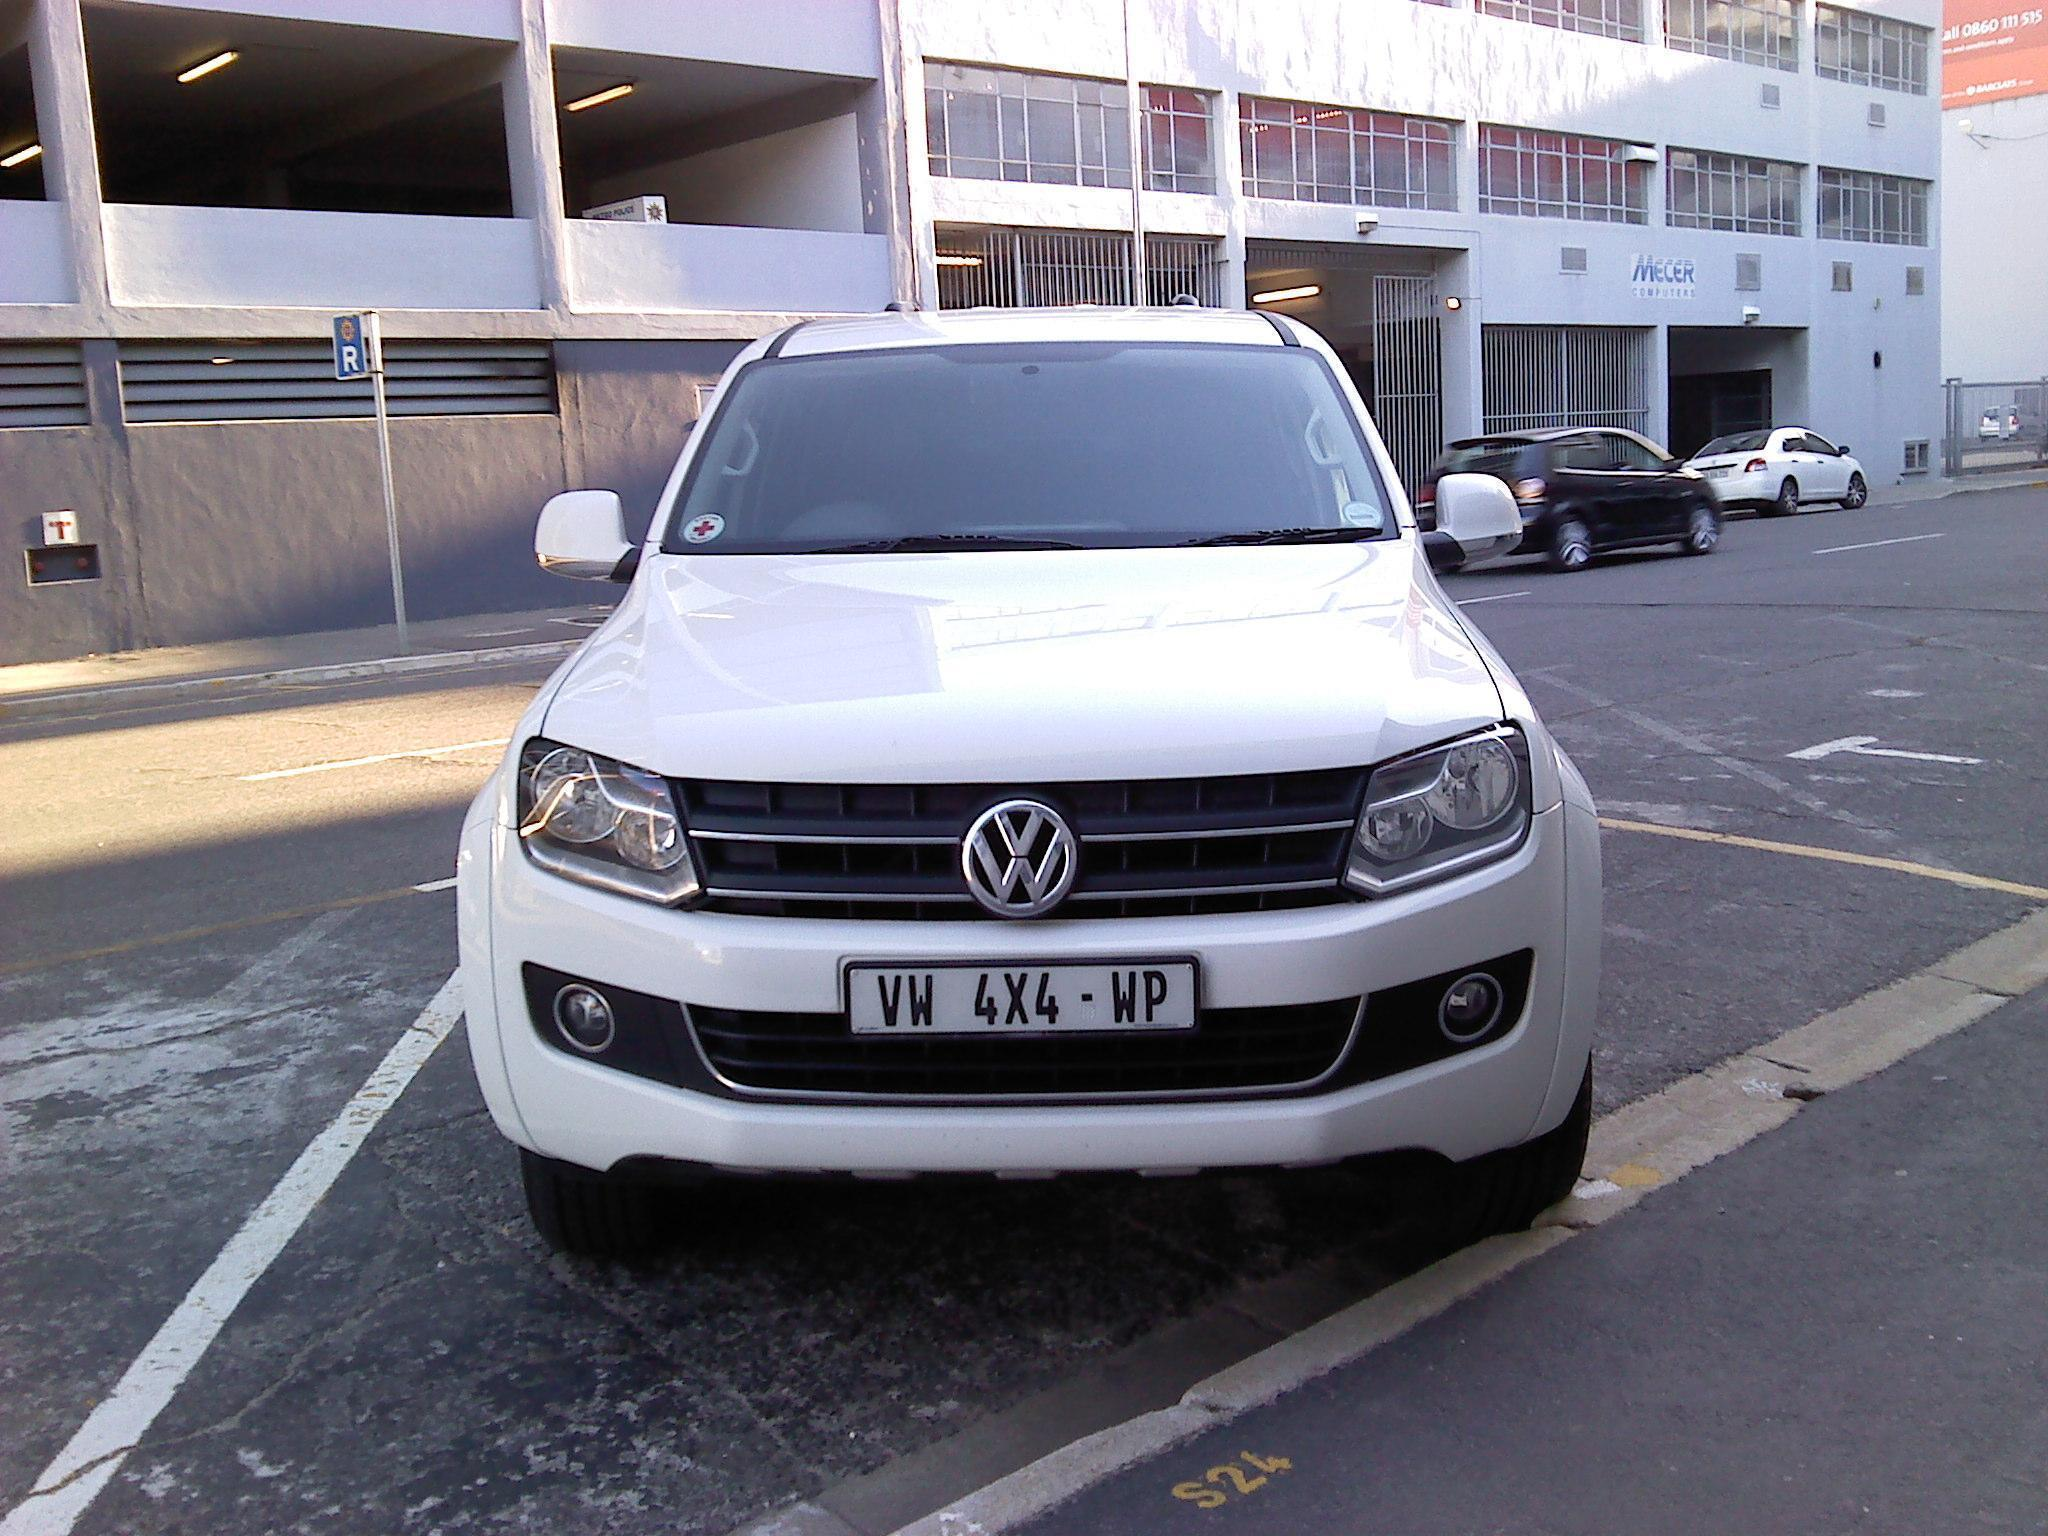placa de veiculo: (808, 932, 1234, 1086)
